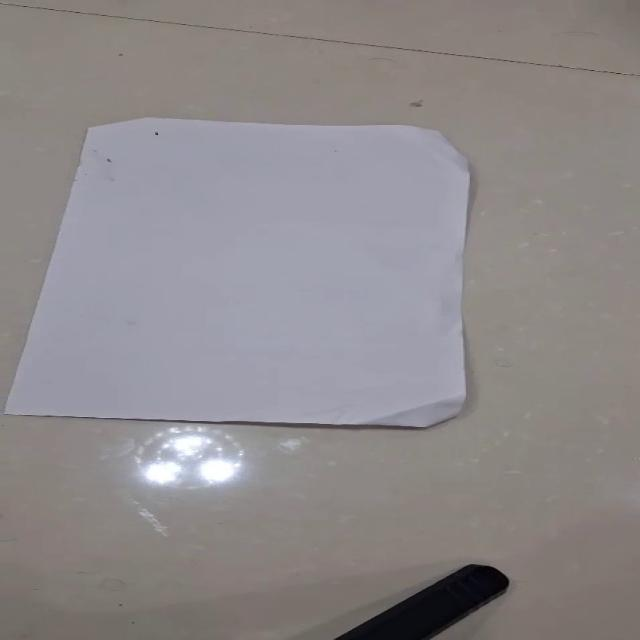paper: (3, 116, 471, 428)
